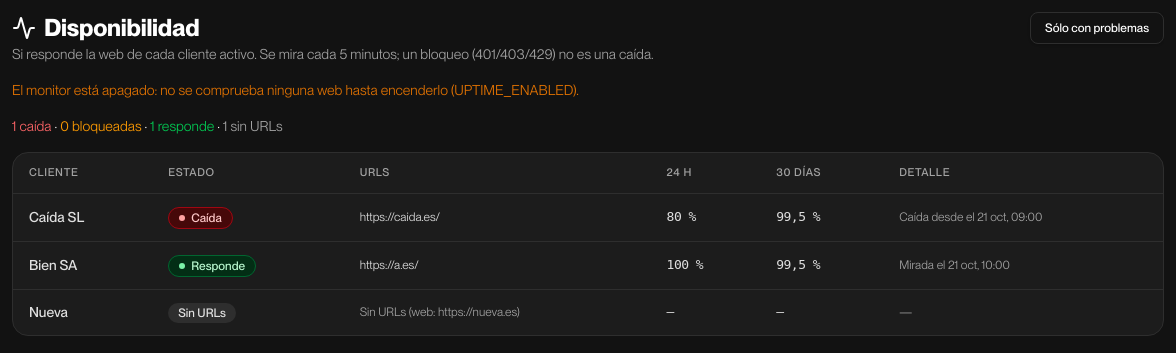
filters to problems and explains a disabled monitor
Expected: the text "El monitor está apagado" is shown, [12, 82, 579, 98]
Click the button "Sólo con problemas" at (1097, 28), box [1030, 12, 1164, 44]
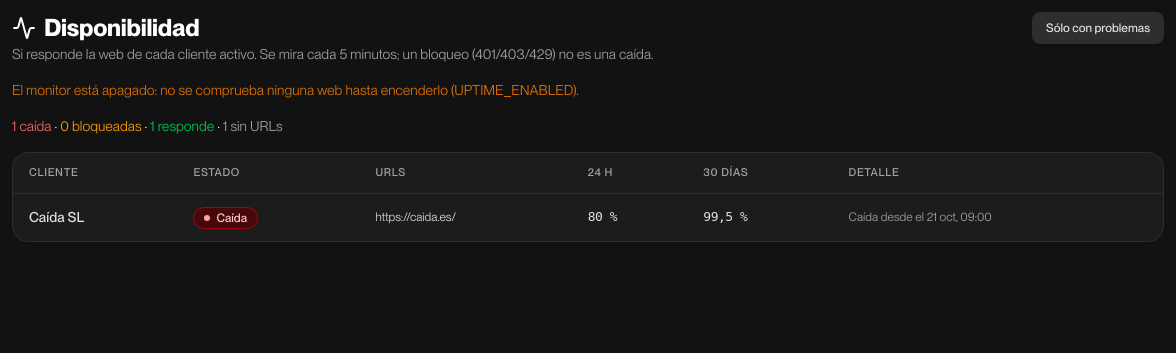
Expected: the link "Caída SL" is shown, [29, 209, 84, 225]
Result: the link "Bien SA" is gone
Result: the link "Nueva" is gone
